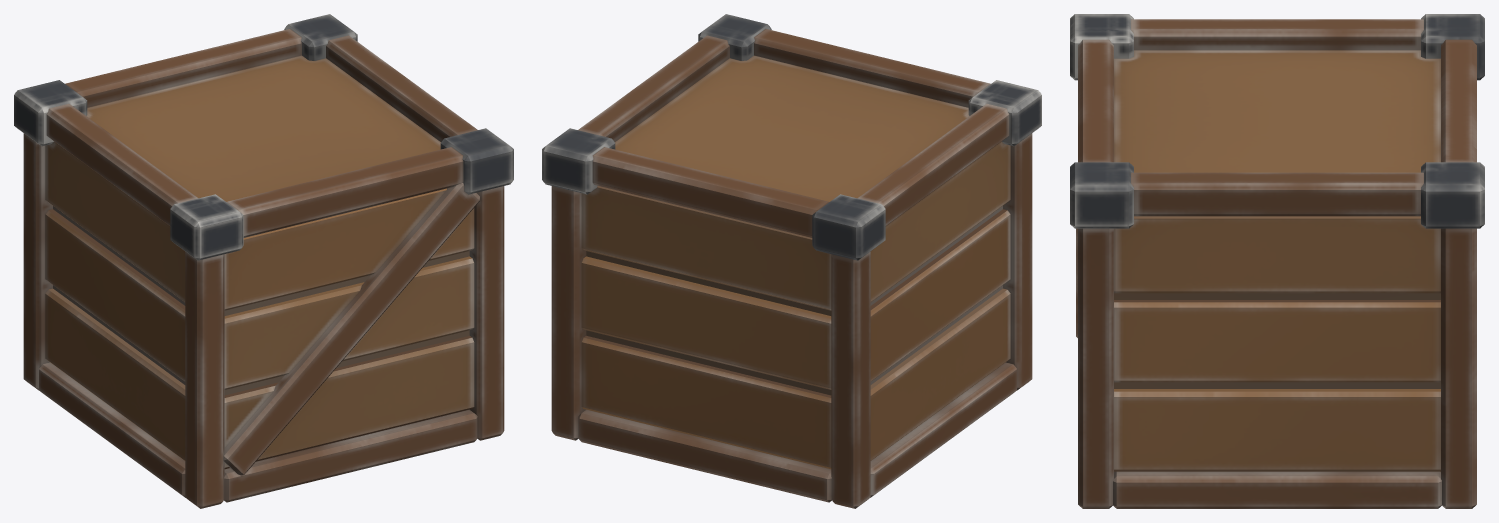
File: gallows_crate.glb
3 views of the same model, side by side, from view 1: azimuth 30°, elevation 25°; view 2: azimuth 150°, elevation 25°; view 3: azimuth 270°, elevation 25° (orthographic). The views are drawn at different scales.
Parts seen in each view (by area): view 1: gallows_crate; view 2: gallows_crate; view 3: gallows_crate.
Boxes of the visible parts, x1,y1,x2,y2 form: gallows_crate: (14, 14, 513, 508); gallows_crate: (542, 14, 1041, 508); gallows_crate: (1070, 14, 1484, 508).
Size of the model in its own units: 1.04 by 0.905 by 1.04.
Materials: 1 (1 with a texture image).
